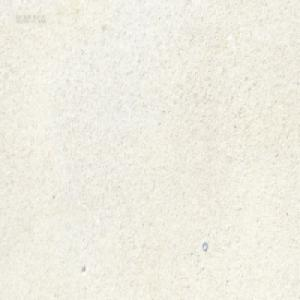Washer: (202, 241, 207, 251)
